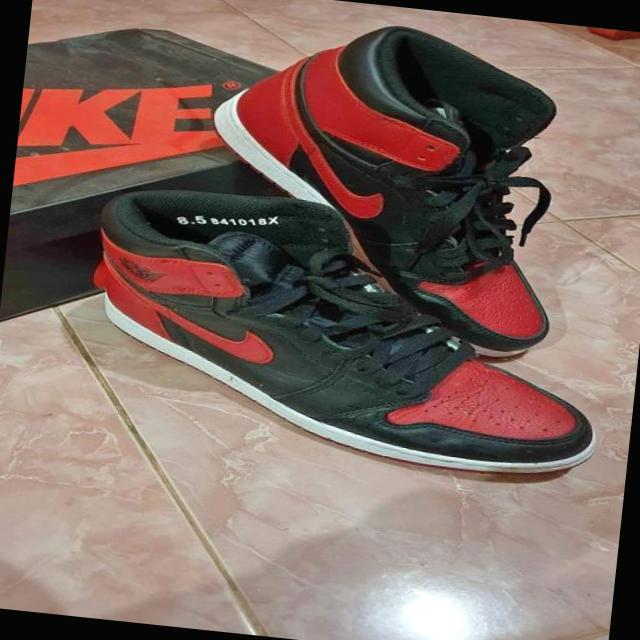nike_original_jordan: (76, 176, 618, 489), (185, 7, 591, 364)
